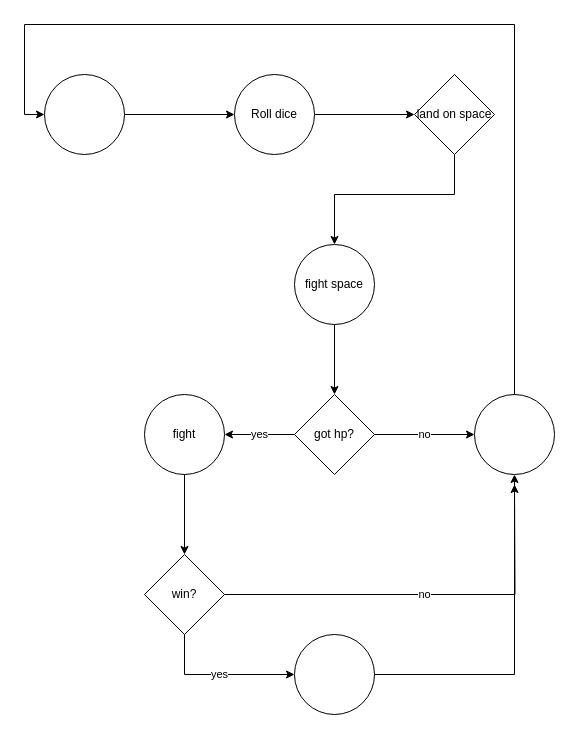
Some shapes in this 572 by 732 pixel diagram are drawn without their labels. The shapes that lost their labels are listed below. From the top down, each one's centre as x and y in pixels, then its label:
(x=84, y=114): Start turn
(x=514, y=434): end turn
(x=334, y=674): choose card
